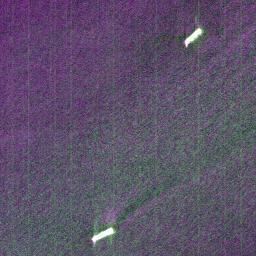Ship: (88, 225, 121, 246), (183, 25, 203, 47)
